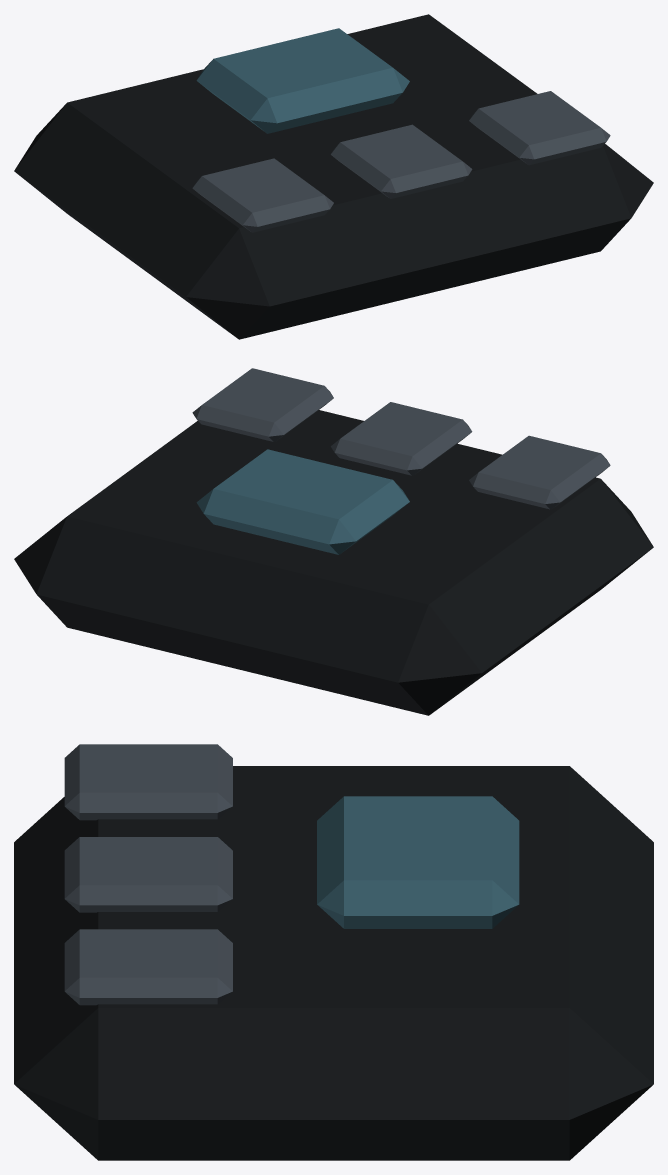
Rendered from ConferencePhone.fbx.
3 renders of one model, top to bottom at view 1: azimuth 30°, elevation 25°; view 2: azimuth 150°, elevation 25°; view 3: azimuth 270°, elevation 25°, orthographic. The views are drawn at different scales.
Visible parts, largest first — view 1: ConferencePhone; view 2: ConferencePhone; view 3: ConferencePhone.
Part boxes in pixels (bbox=[...]): ConferencePhone: bbox=[14, 14, 653, 339]; ConferencePhone: bbox=[14, 368, 653, 715]; ConferencePhone: bbox=[14, 744, 653, 1160].
Size of the model in its own units: 22 by 6.6 by 19.
Materials: 1 (1 with a texture image).
